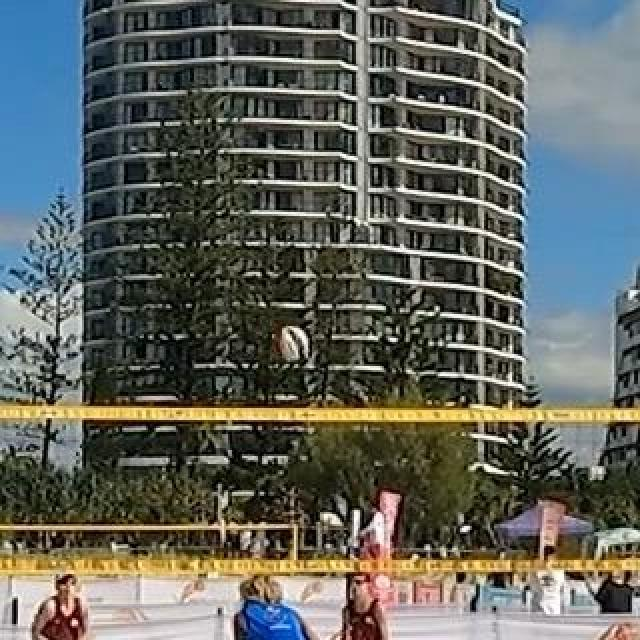volleyball: (270, 324, 310, 364)
